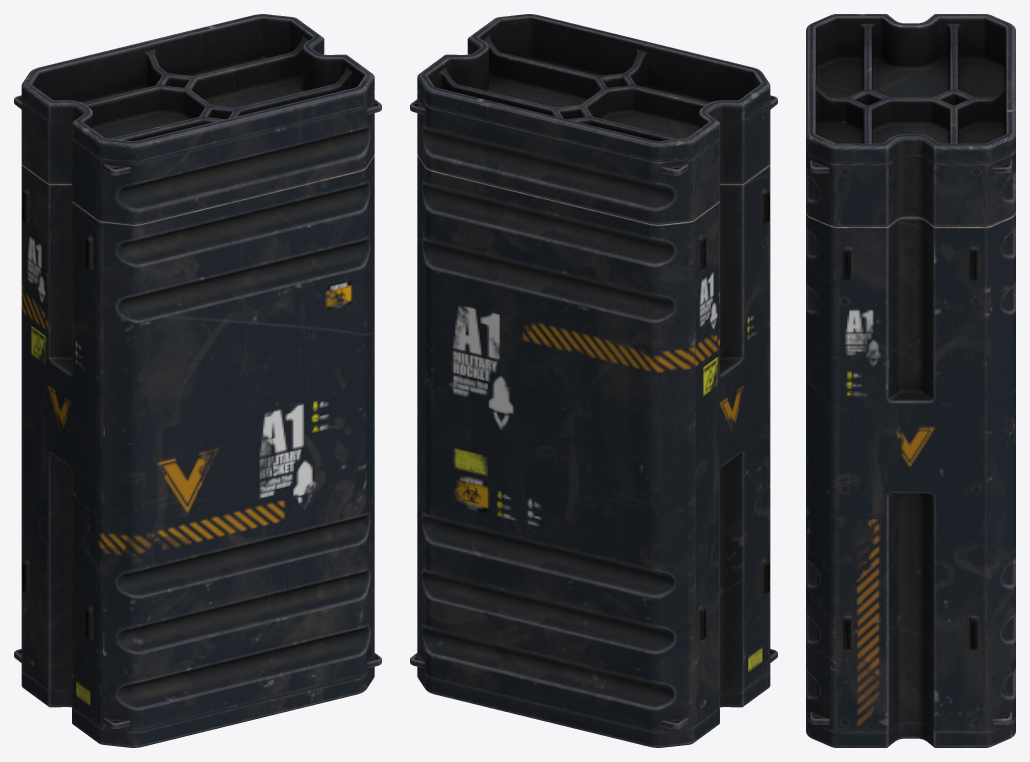
The model's file is SM_AmmunitionBoxes02_Closed.fbx.
The picture shows the model from 3 angles, left to right: view 1: azimuth 30°, elevation 25°; view 2: azimuth 150°, elevation 25°; view 3: azimuth 270°, elevation 25°; orthographic projection.
Visible parts, largest first — view 1: SM_AmmunitionBoxes02_Closed_LOD0; view 2: SM_AmmunitionBoxes02_Closed_LOD0; view 3: SM_AmmunitionBoxes02_Closed_LOD0.
Part boxes in pixels (left/top/right/bottom): SM_AmmunitionBoxes02_Closed_LOD0: left=14, top=14, right=381, bottom=747; SM_AmmunitionBoxes02_Closed_LOD0: left=410, top=14, right=777, bottom=747; SM_AmmunitionBoxes02_Closed_LOD0: left=806, top=14, right=1015, bottom=747.
Size of the model in its own units: 62.27 by 39.74 by 126.
1 material, 1 textured.
